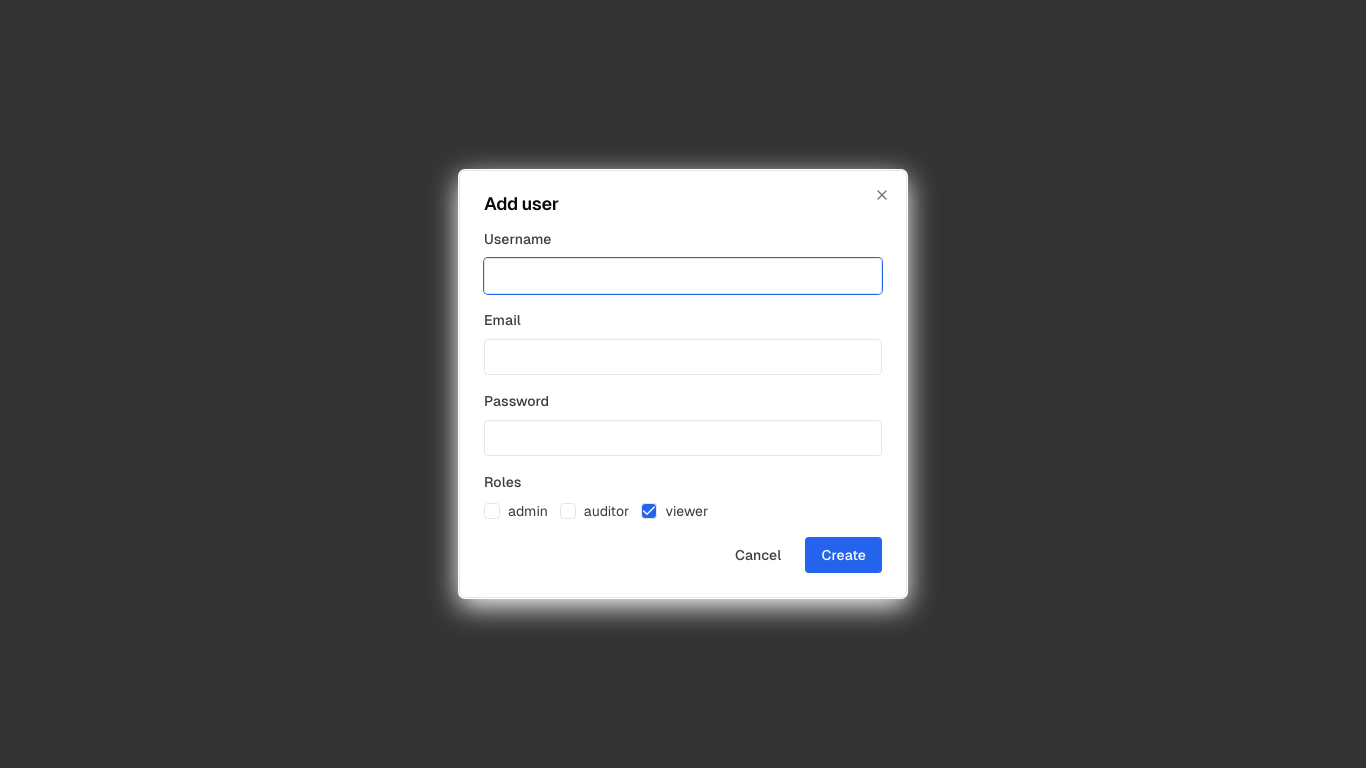
UsersDialog — add validation › renders the backend error as a root message
The width and height of the screenshot is (1366, 768).
Type "bob" into the field labelled "Username" at coordinates (683, 276), box [484,258,882,294]
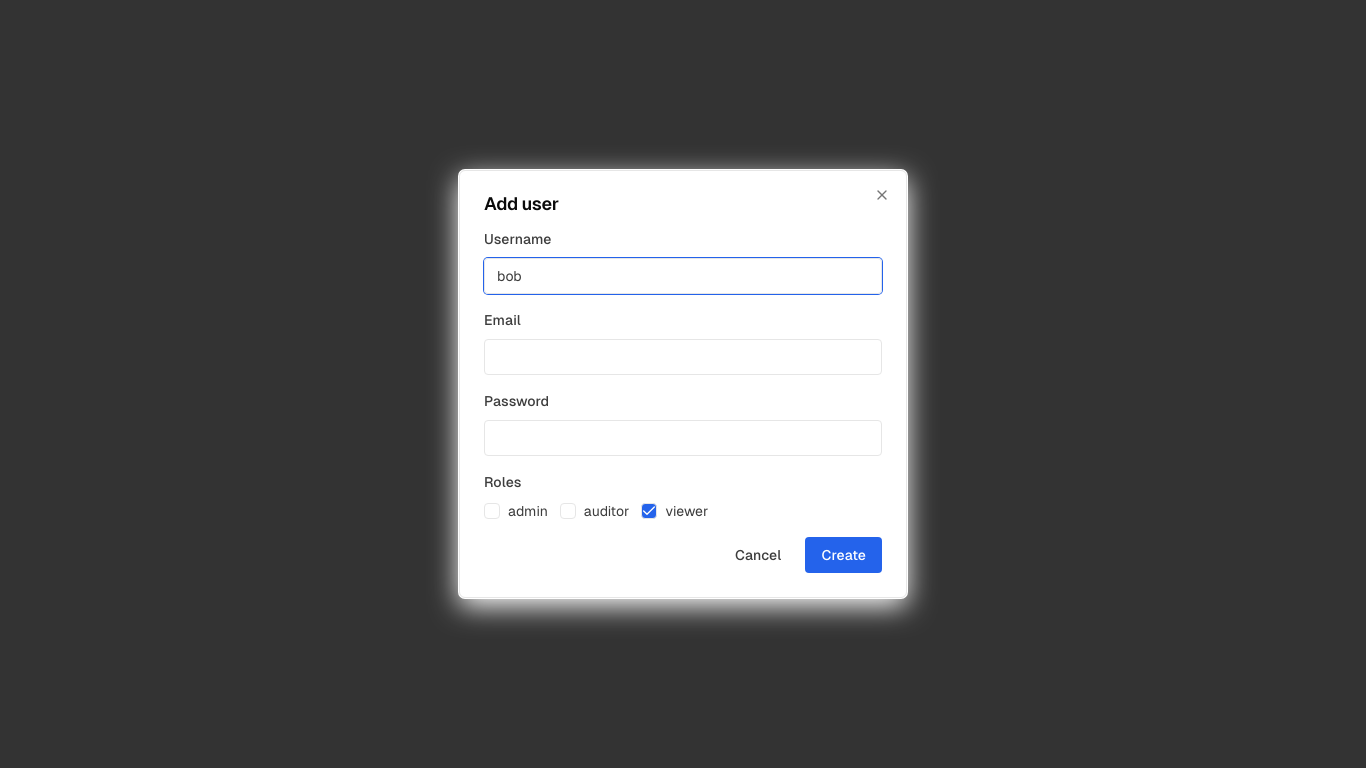
Type "secret" into the password field labelled "Password" at coordinates (683, 438), box [484,420,882,456]
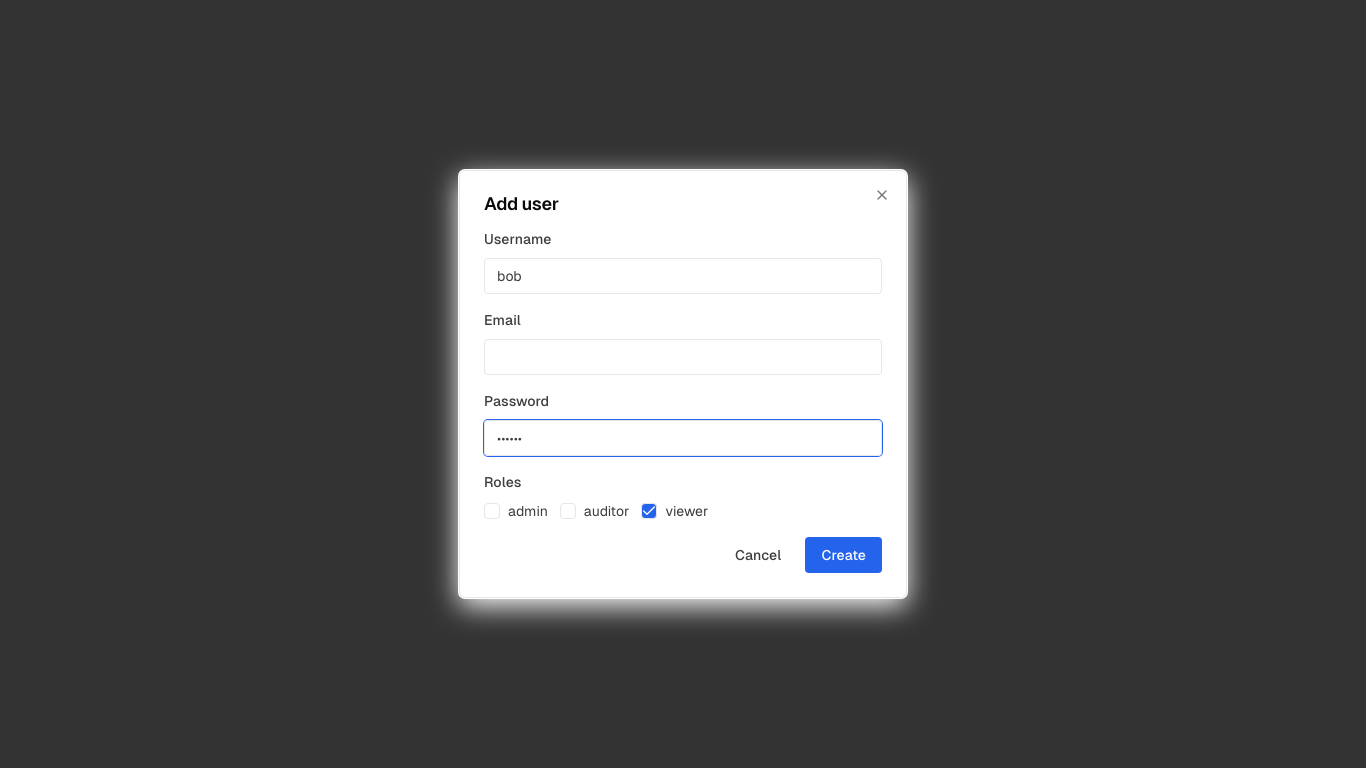
Click the button "Create" at coordinates (844, 555), box [805,537,882,573]
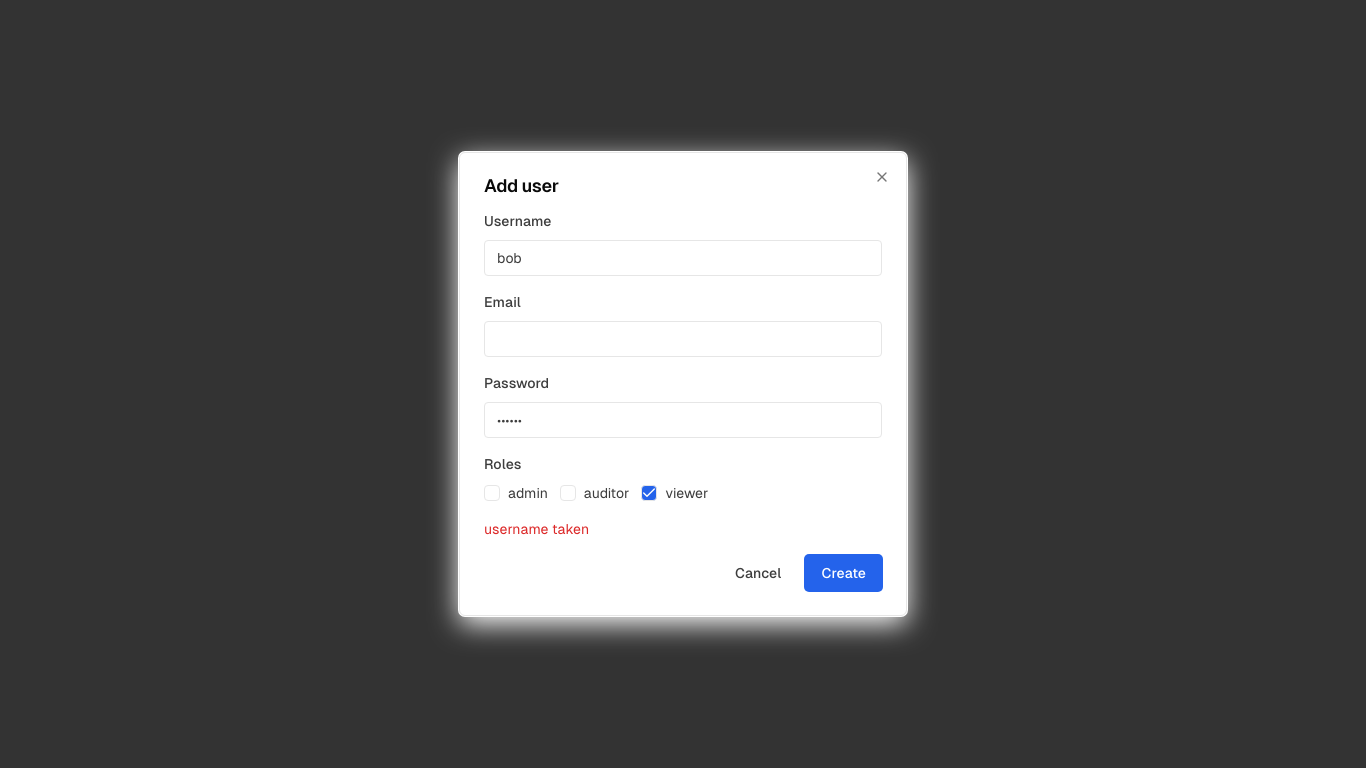
Expected: the text "username taken" is shown, [484,521,589,537]
